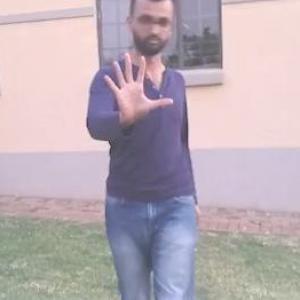follow_hand: (100, 47, 175, 127)
